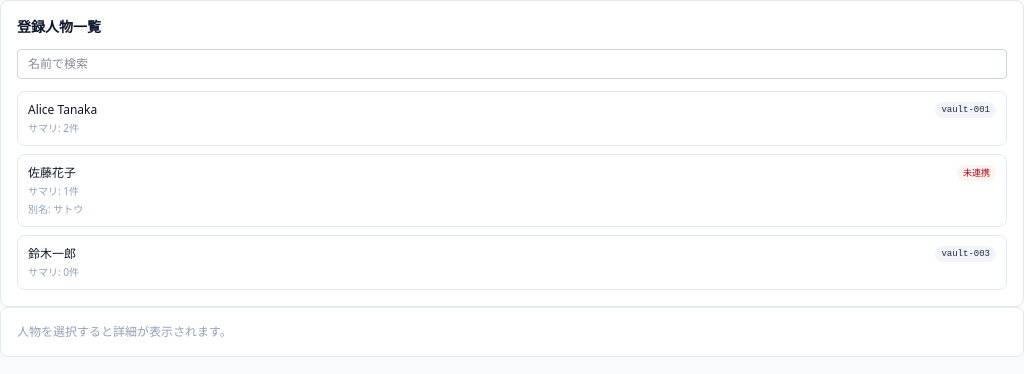
Scenario: PeopleListTab 検索ボックス › 名前の部分一致で絞り込める
Type "佐藤" into the search field named "人物名で検索" at (512, 64), box [17, 49, 1007, 79]
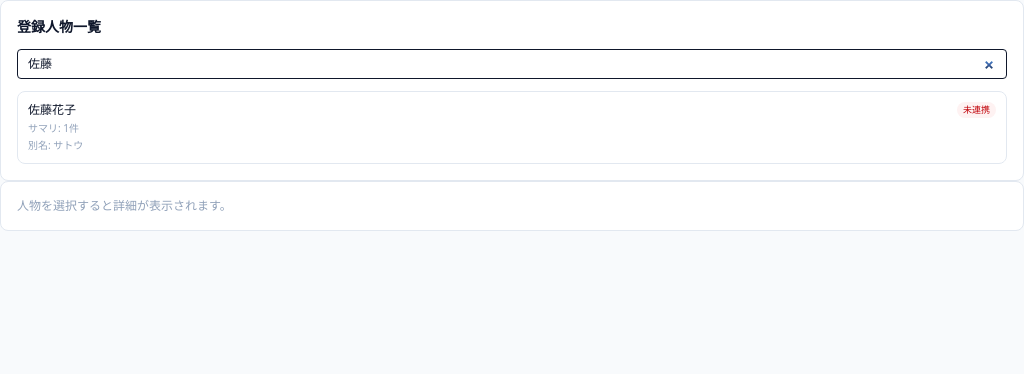
Expected: the button "佐藤花子 未連携 サマリ: 1件 別名: サトウ" is shown, [17, 91, 1007, 164]
Expected: the button "Alice Tanaka" is gone
Expected: the button "鈴木一郎" is gone
